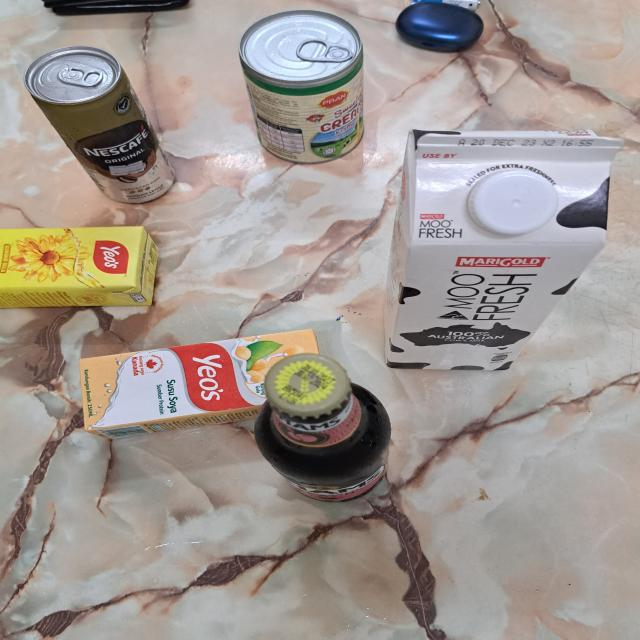can: (25, 46, 176, 205), (239, 9, 365, 165)
drink carton: (381, 128, 624, 371), (81, 328, 321, 442), (0, 226, 164, 309)
glass bottle: (253, 353, 393, 503)
plastic bottle cap: (468, 170, 559, 237)
pop tab: (295, 38, 353, 62), (58, 65, 104, 87)
